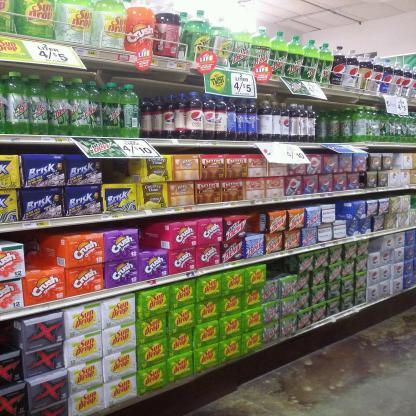Void: (142, 83, 175, 132), (26, 241, 63, 269), (316, 106, 341, 140), (105, 160, 135, 182), (140, 224, 163, 248), (2, 323, 18, 351), (268, 264, 288, 274)
